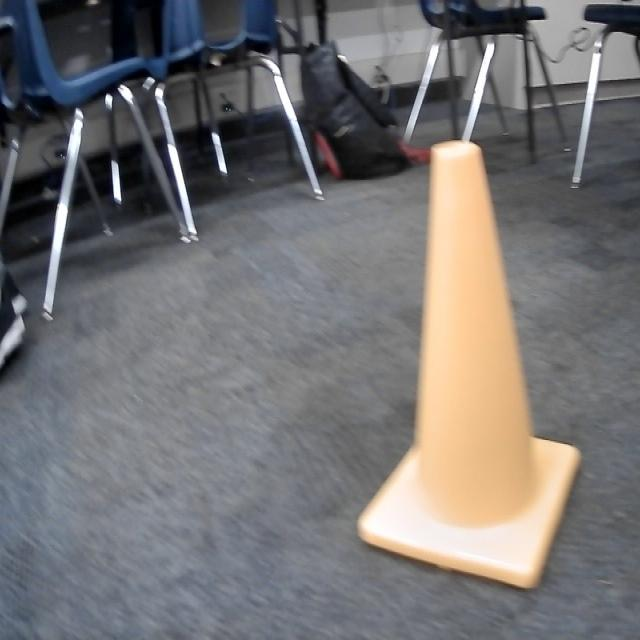cone: (352, 140, 584, 593)
